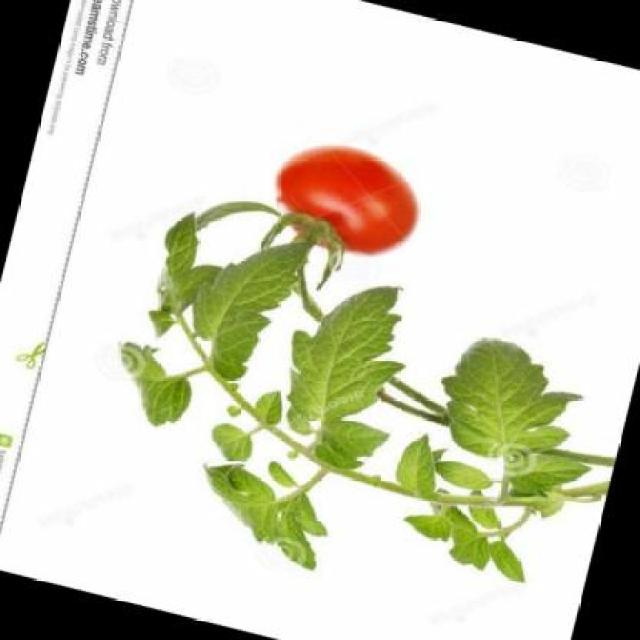Healthy Leaf: (147, 180, 316, 418), (260, 254, 429, 437), (411, 318, 594, 477), (383, 424, 451, 508)
